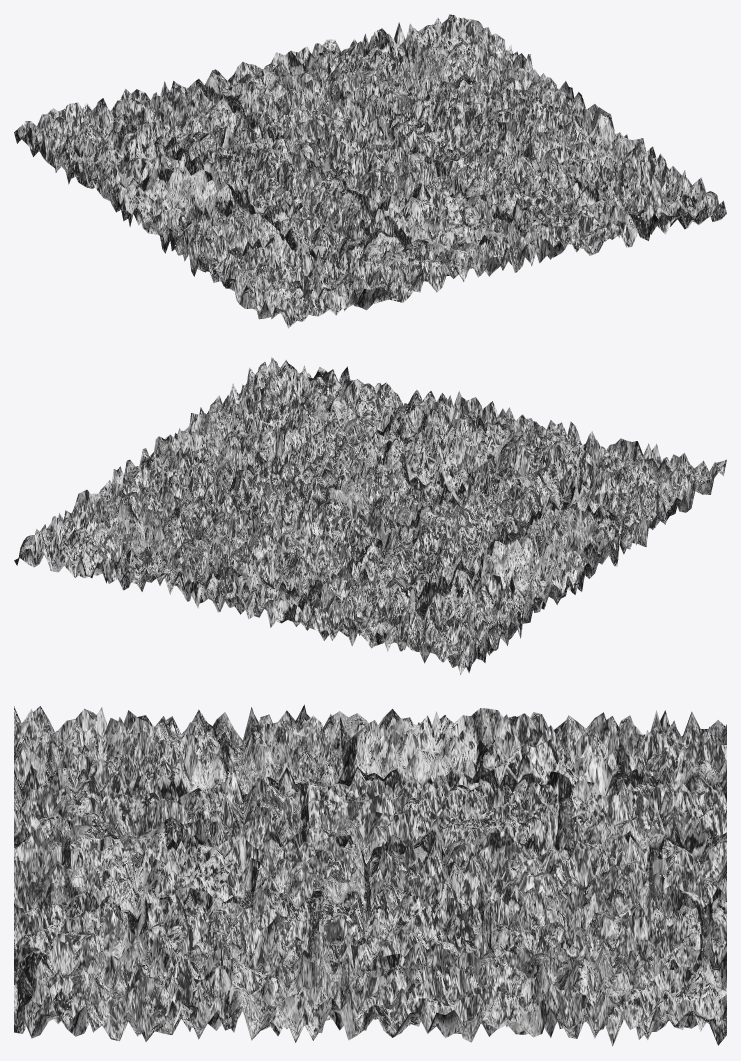
The model's file is 1024singleplane.fbx.
3 renders of one model, top to bottom at view 1: azimuth 30°, elevation 25°; view 2: azimuth 150°, elevation 25°; view 3: azimuth 270°, elevation 25°, orthographic. The views are drawn at different scales.
Parts seen in each view (by area): view 1: 1024stone_1; view 2: 1024stone_1; view 3: 1024stone_1.
Boxes of the visible parts, left/top/right/bottom form: 1024stone_1: left=14, top=14, right=726, bottom=328; 1024stone_1: left=14, top=357, right=726, bottom=674; 1024stone_1: left=14, top=704, right=726, bottom=1046.
Bounding box in the file's own units: 100 × 7.07 × 100.
